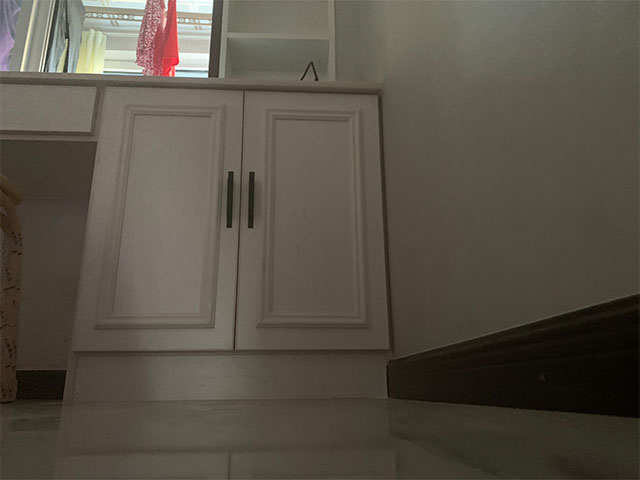cabinet: (61, 73, 391, 400)
